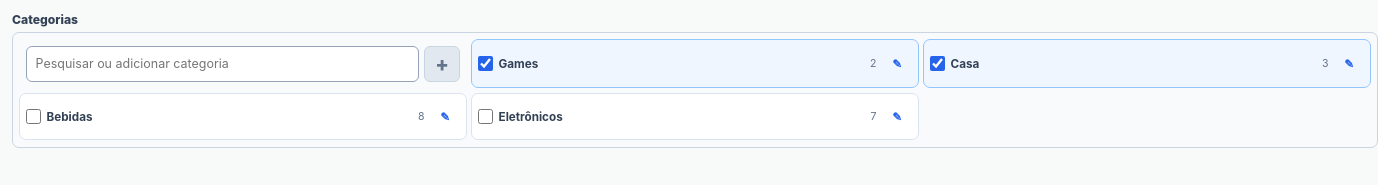
it: PromotionCategorySelectorComponent › preserves rename errors and typed values
Click the button named "Editar categoria Casa" at (1349, 64), box [1334, 45, 1364, 82]
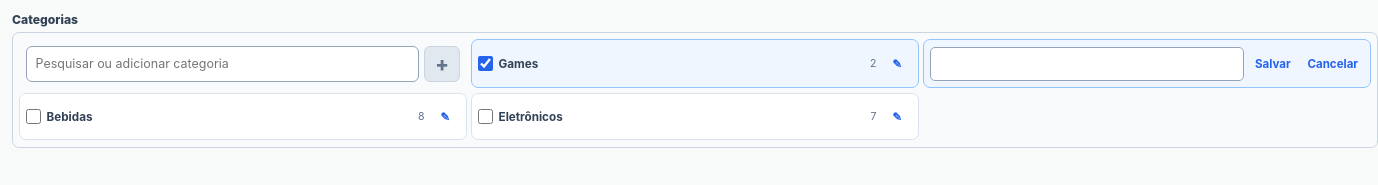
Type "Lar" into the field named "Novo nome da categoria" at (1087, 64), box [930, 47, 1244, 81]
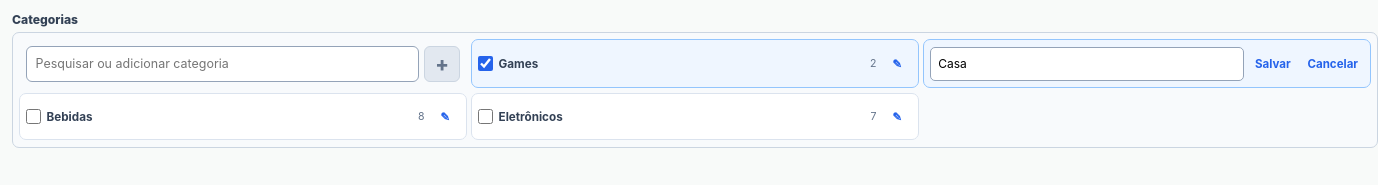
Click the button with aria-label "Salvar nome" at (1273, 64), box [1249, 49, 1297, 79]
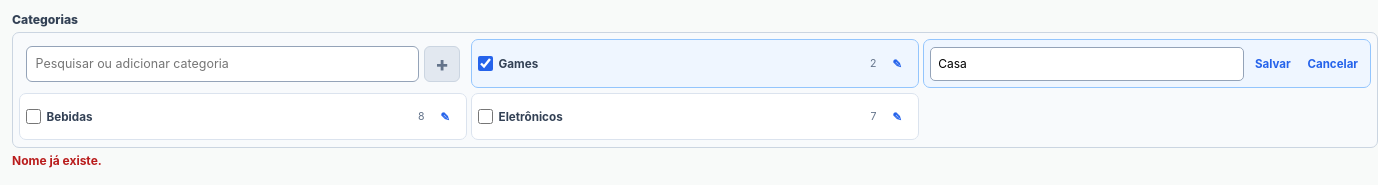
Expected: the message "Nome já existe." is shown, [12, 152, 102, 168]
